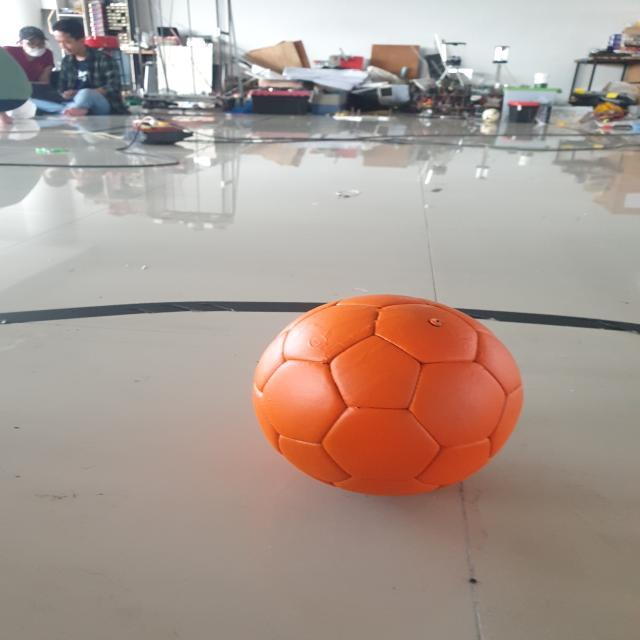bola: (230, 285, 558, 502)
